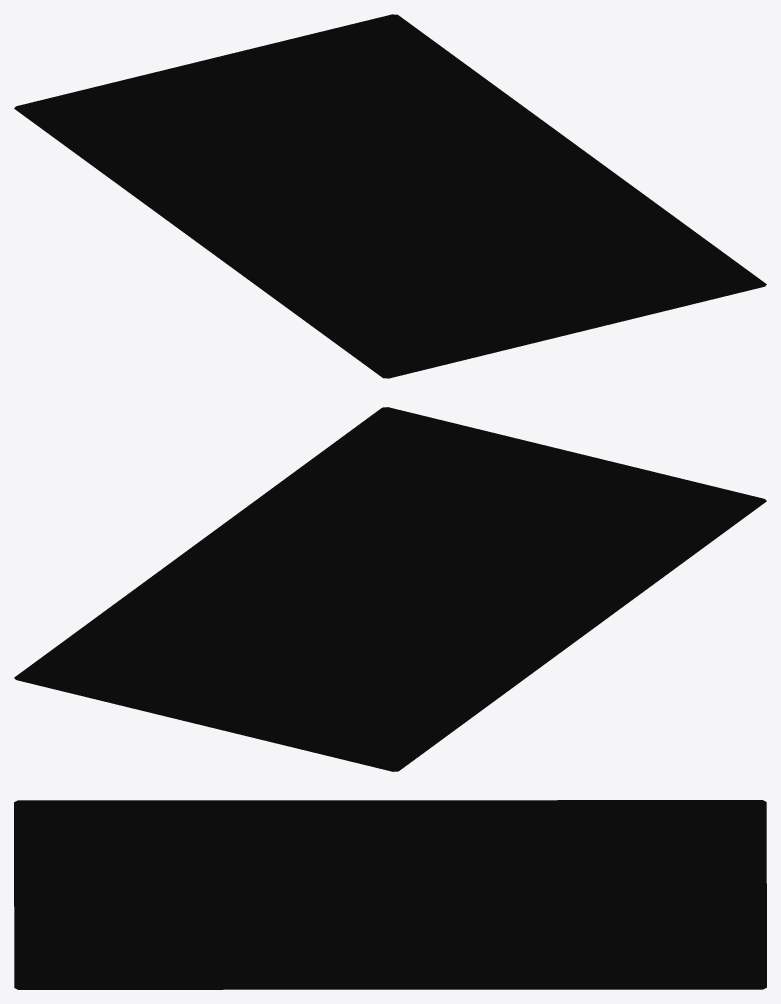
3 renders of one model, top to bottom at view 1: azimuth 30°, elevation 25°; view 2: azimuth 150°, elevation 25°; view 3: azimuth 270°, elevation 25°, orthographic.
Parts seen in each view (by area): view 1: Joint_0_Object_0; view 2: Joint_0_Object_0; view 3: Joint_0_Object_0.
Part boxes in pixels (<box>): Joint_0_Object_0: <box>14,14,766,378</box>; Joint_0_Object_0: <box>14,407,766,771</box>; Joint_0_Object_0: <box>14,800,766,989</box>.
Bounding box in the file's own units: 1588 × 0 × 2662.
Materials: 1 (1 with a texture image).
